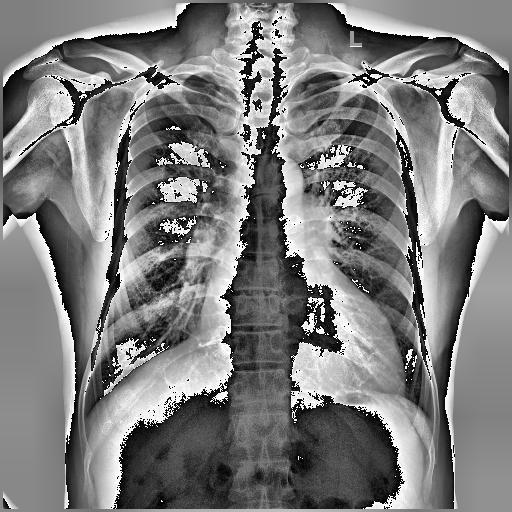3- Cardiomegaly: (200, 282, 406, 397), (201, 292, 407, 399), (198, 289, 406, 394)
